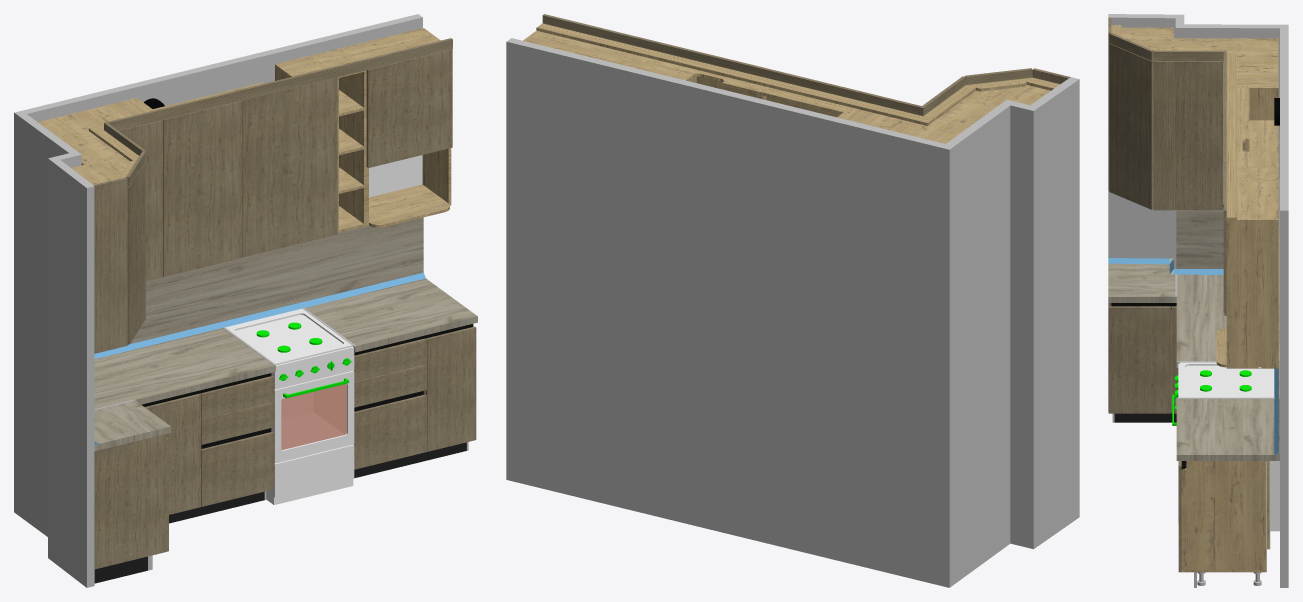
3 views of the same model, side by side, from view 1: azimuth 30°, elevation 25°; view 2: azimuth 150°, elevation 25°; view 3: azimuth 270°, elevation 25° (orthographic). The views are drawn at different scales.
Visible parts, largest first — view 1: node_0574, node_0042, node_0132, node_0141, node_0043, node_0029, node_0151, node_0045, node_0118, node_0086, node_0099, node_0060 (+28 smaller); view 2: node_0574, node_0019, node_0020, node_0109, node_0146, node_0126, node_0117, node_0138; view 3: node_0574, node_0079, node_0145, node_0102, node_0030, node_0121, node_0045, node_0043, node_0120, node_0041, node_0109, node_0044 (+27 smaller).
Boxes of the visible parts, x1,y1,x2,y2 form: node_0574: [14, 14, 422, 587]; node_0042: [130, 217, 423, 343]; node_0132: [242, 77, 337, 257]; node_0141: [163, 100, 242, 276]; node_0043: [94, 328, 275, 408]; node_0029: [94, 434, 166, 569]; node_0151: [366, 49, 452, 167]; node_0045: [305, 278, 477, 352]; node_0118: [93, 177, 127, 353]; node_0086: [425, 326, 476, 451]; node_0099: [201, 431, 274, 506]; node_0060: [353, 394, 426, 469]; node_0574: [506, 38, 1079, 587]; node_0019: [542, 14, 921, 115]; node_0020: [536, 23, 933, 125]; node_0109: [842, 100, 994, 143]; node_0146: [525, 31, 625, 62]; node_0126: [651, 62, 763, 93]; node_0117: [966, 85, 1050, 105]; node_0138: [762, 87, 849, 114]; node_0574: [1108, 14, 1288, 587]; node_0079: [1181, 461, 1266, 569]; node_0145: [1226, 219, 1278, 368]; node_0102: [1174, 61, 1223, 209]; node_0030: [1108, 306, 1171, 413]; node_0121: [1109, 43, 1153, 209]; node_0045: [1176, 398, 1279, 460]; node_0043: [1176, 273, 1279, 361]; node_0120: [1153, 61, 1173, 210]; node_0041: [1176, 207, 1223, 268]; node_0109: [1177, 38, 1278, 85]; node_0044: [1108, 263, 1176, 302].
Size of the model in its own units: 2.69 by 2.41 by 1.05.
Materials: 24 (5 with a texture image).
